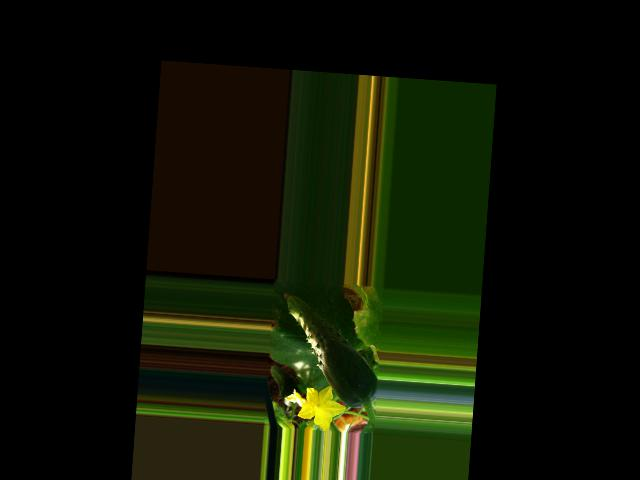cucumber: (275, 292, 383, 409)
